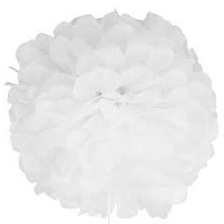tissue: (0, 2, 224, 224)
